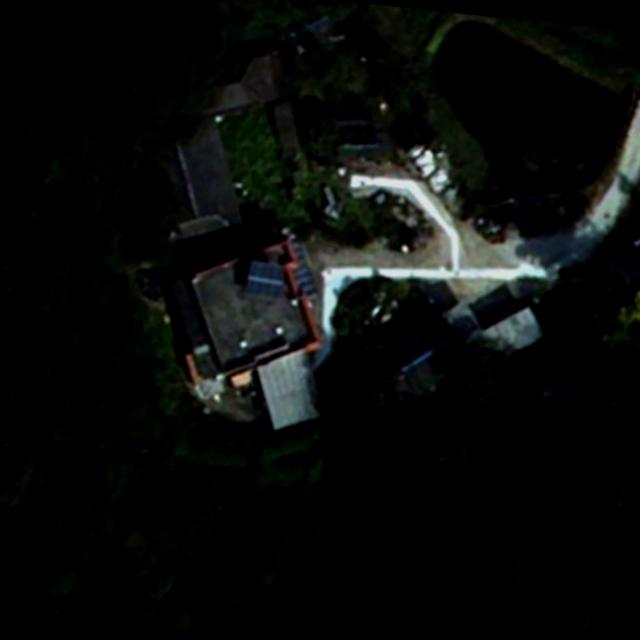solar: (243, 257, 286, 299)
